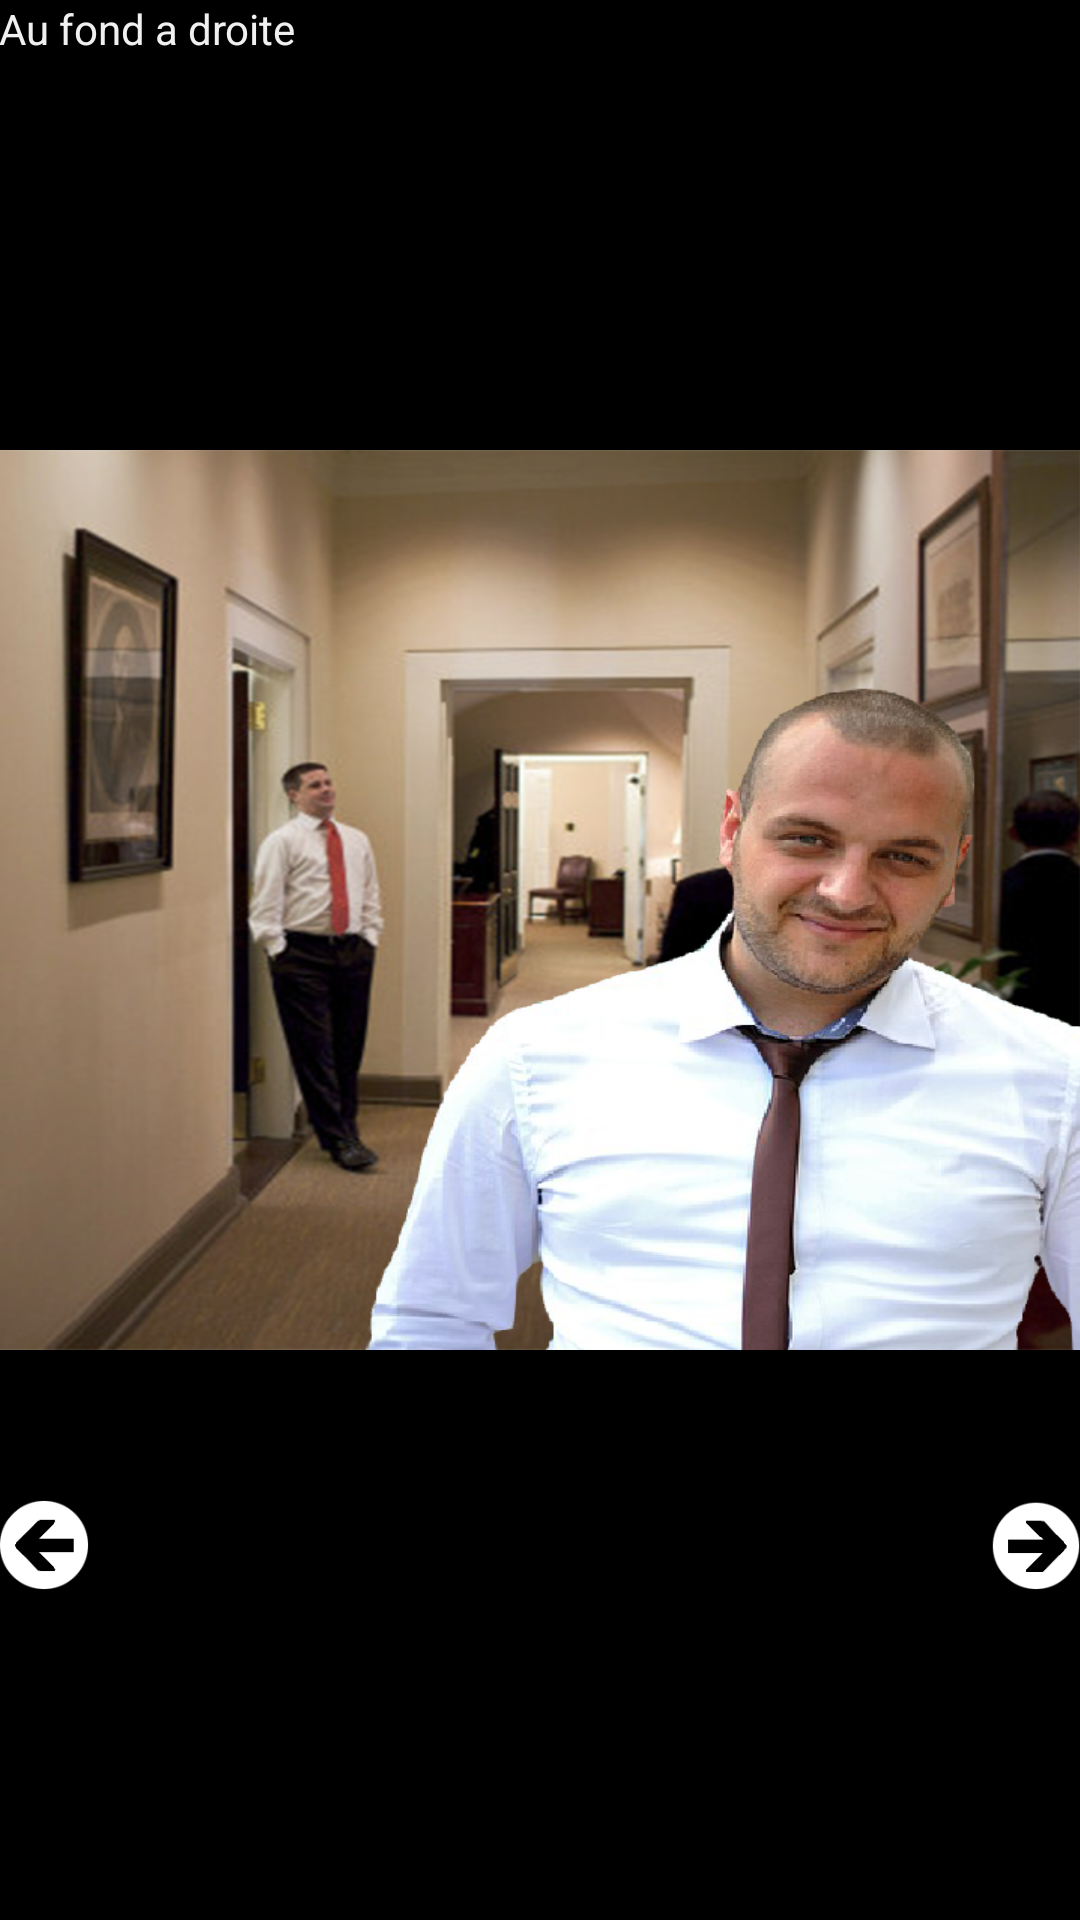

Icon bounding boxes for this 1080w x 1920h phone screenshot, format (x1, y1, x2, y2):
bouton fleche droite: (992, 1502, 1080, 1589)
bouton fleche gauche: (0, 1501, 88, 1589)
